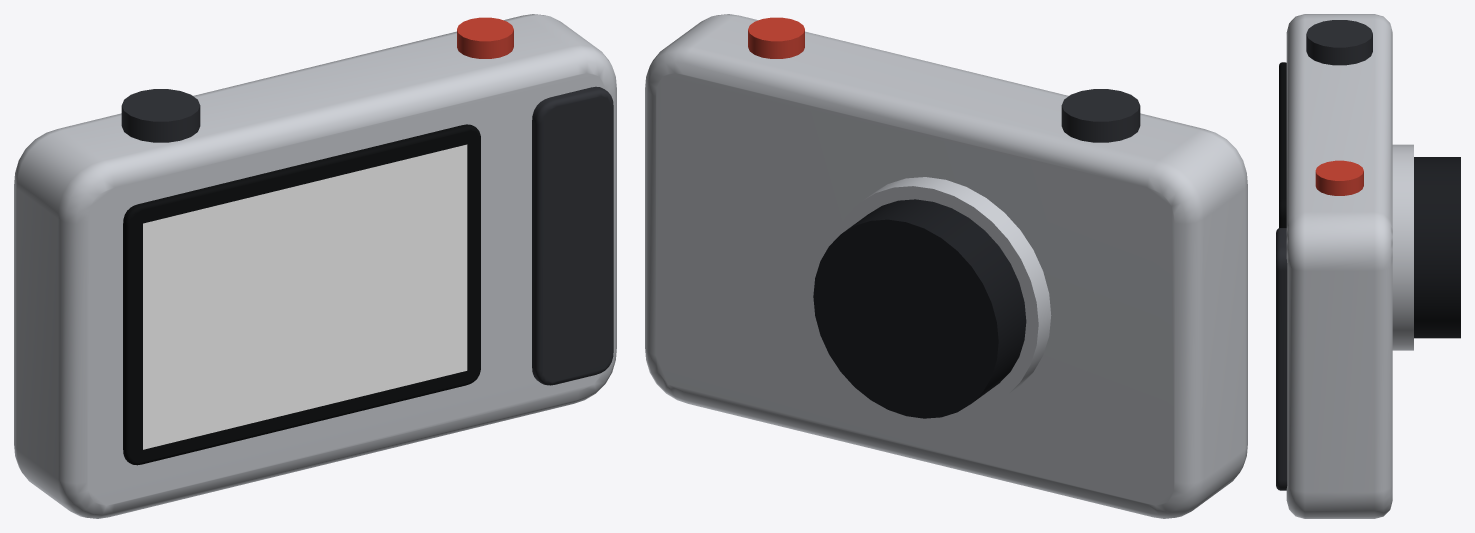
Rendered from digicam.glb.
3 renders of one model, left to right at view 1: azimuth 30°, elevation 25°; view 2: azimuth 150°, elevation 25°; view 3: azimuth 270°, elevation 25°, orthographic. The views are drawn at different scales.
Visible parts, largest first — view 1: Body, Screen, Grip, Bezel, Shutter; view 2: Body, Lens, Grip, Shutter; view 3: Body, Lens, Grip, Shutter, Bezel.
Boxes of the visible parts, x1=… form: Body: x1=14, y1=14, x2=616, y2=518; Screen: x1=143, y1=144, x2=467, y2=449; Grip: x1=121, y1=86, x2=613, y2=385; Bezel: x1=123, y1=124, x2=480, y2=465; Shutter: x1=457, y1=17, x2=513, y2=58; Body: x1=645, y1=14, x2=1247, y2=518; Lens: x1=813, y1=199, x2=1026, y2=418; Grip: x1=1061, y1=89, x2=1140, y2=142; Shutter: x1=748, y1=17, x2=804, y2=58; Body: x1=1286, y1=14, x2=1413, y2=518; Lens: x1=1414, y1=157, x2=1460, y2=338; Grip: x1=1276, y1=20, x2=1372, y2=490; Shutter: x1=1315, y1=160, x2=1363, y2=195; Bezel: x1=1279, y1=62, x2=1286, y2=228.
Size of the model in its own units: 0.36 by 0.233 by 0.122.
